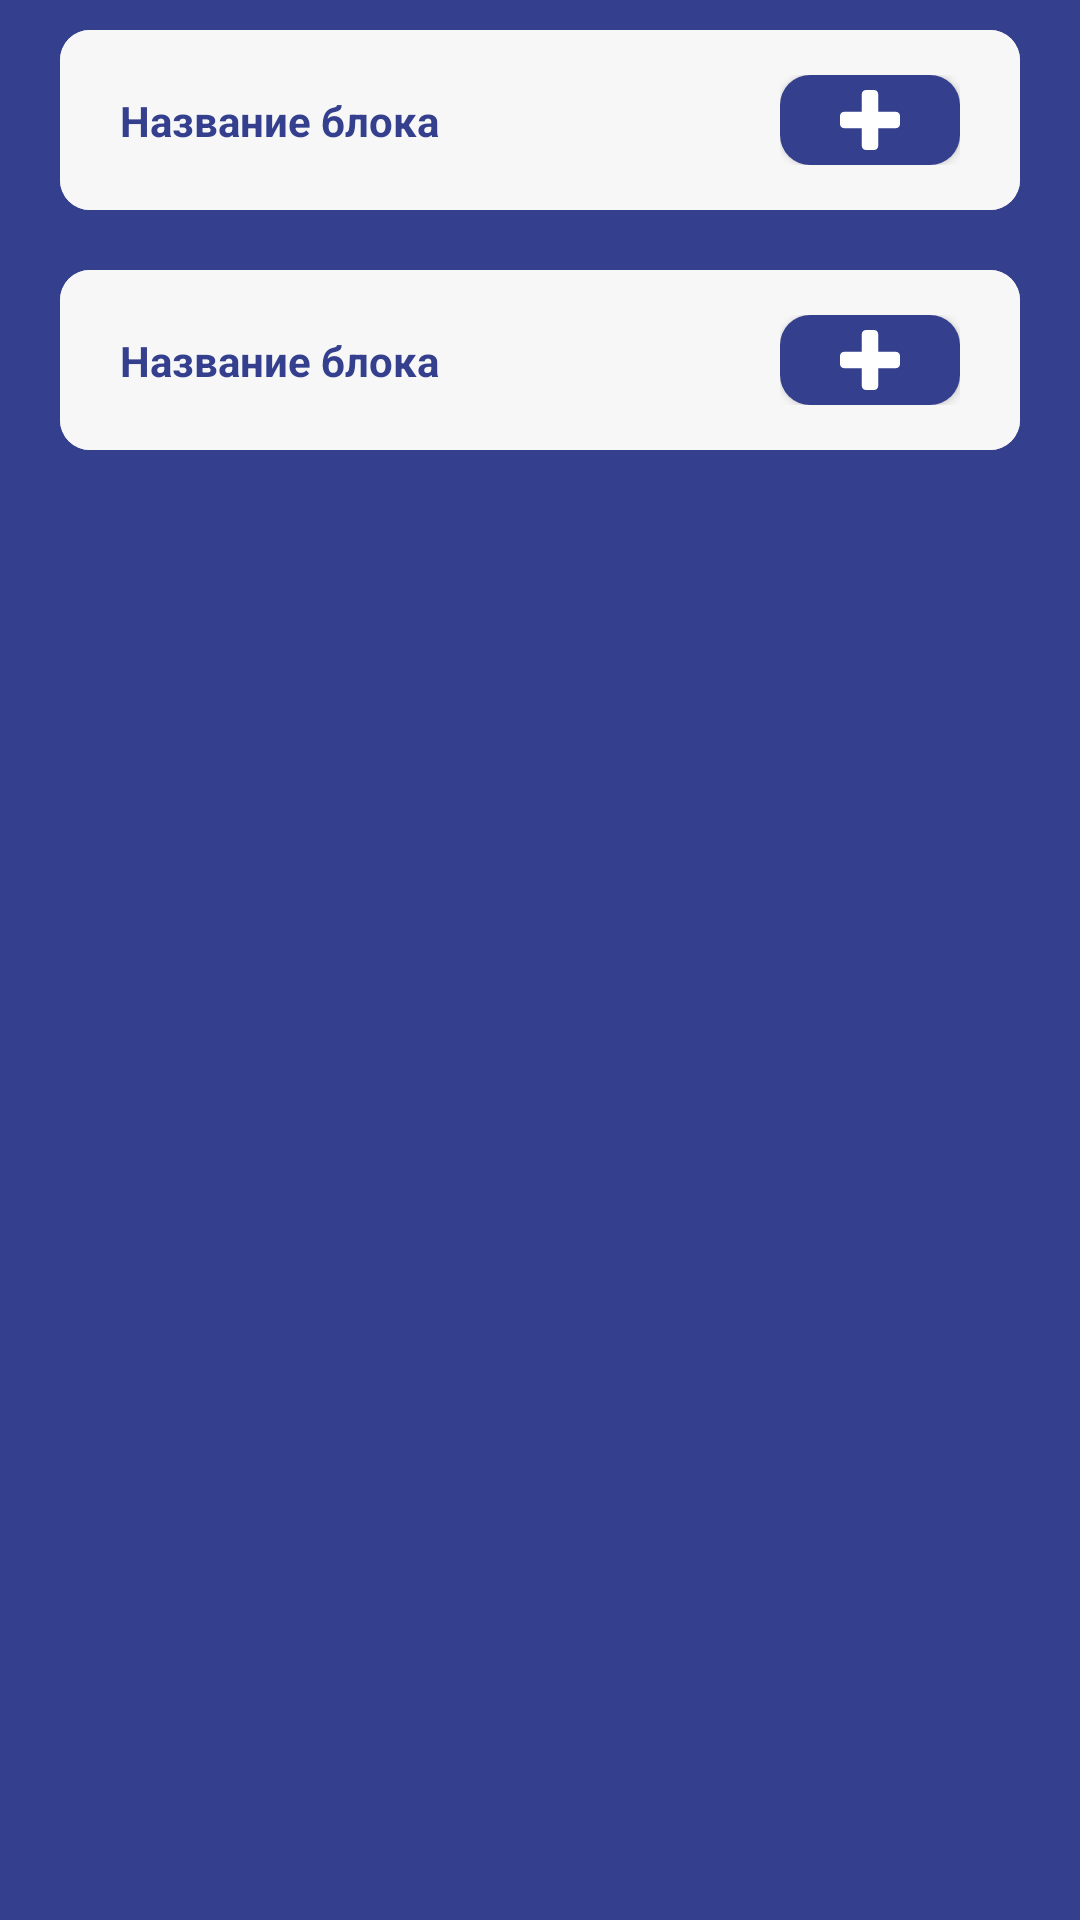

Locate icon controls on the screen. Image size 1080x1920, boxes as (x1, y1, x2, y2).
plus: (840, 90, 900, 150), (840, 330, 900, 390)
